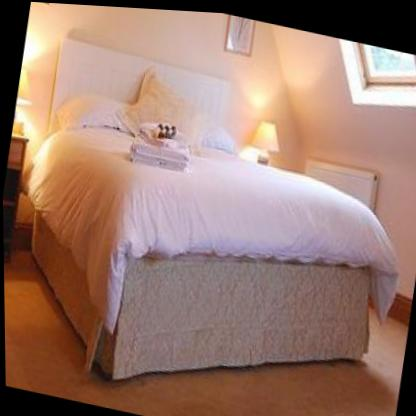Bed: (0, 20, 416, 416)
